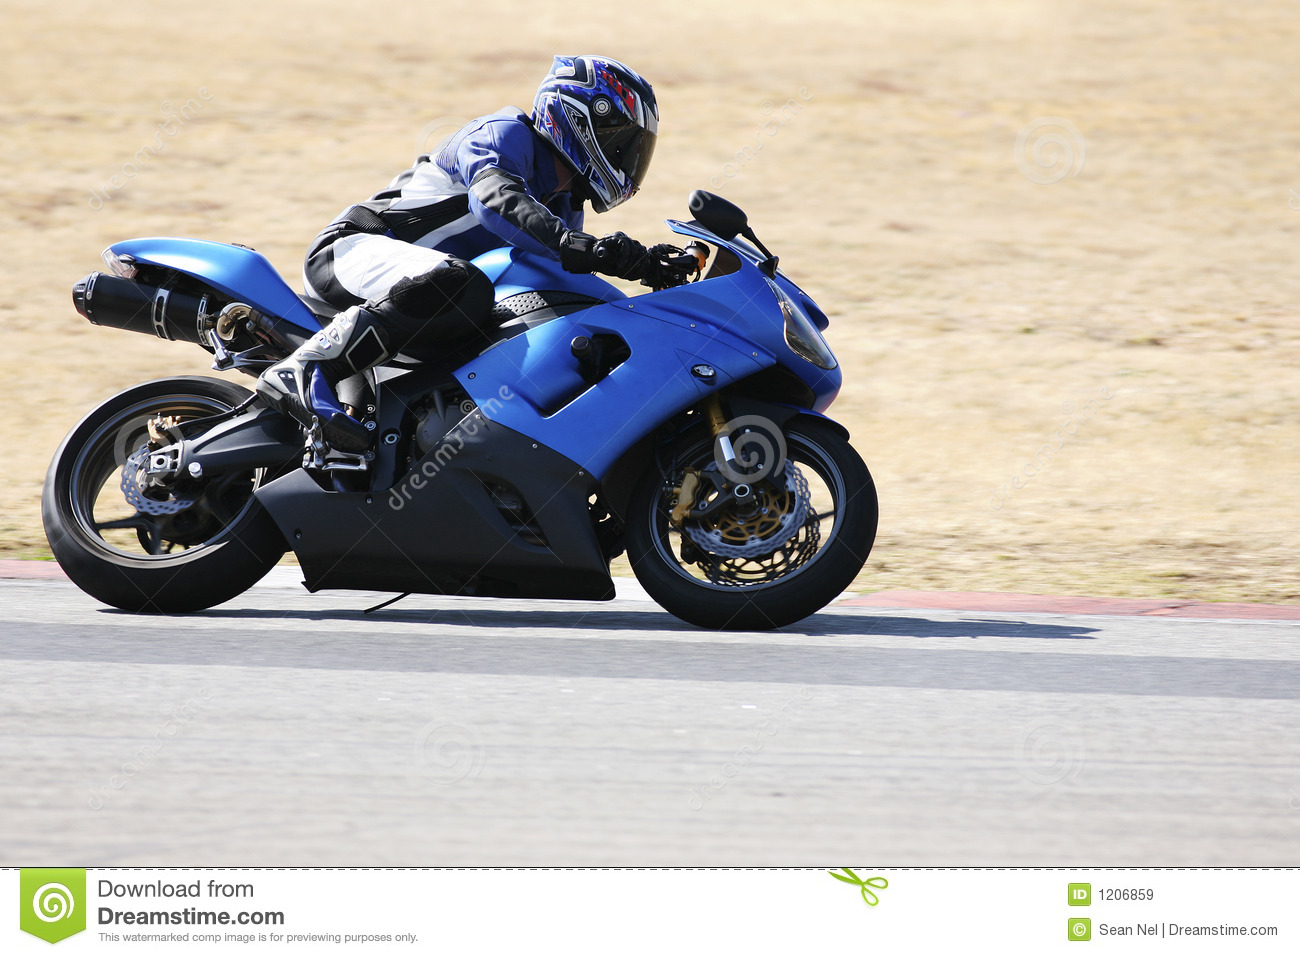helmet: (530, 41, 671, 205)
